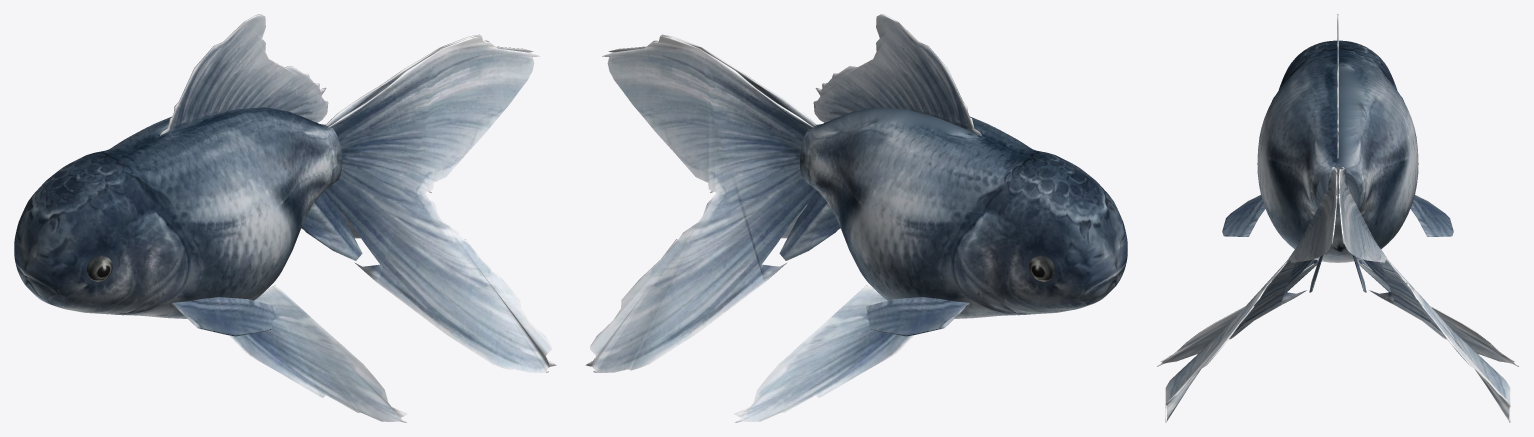
Rendered from seibungyo.glb.
3 views of the same model, side by side, from view 1: azimuth 30°, elevation 25°; view 2: azimuth 150°, elevation 25°; view 3: azimuth 270°, elevation 25° (orthographic). The views are drawn at different scales.
Parts seen in each view (by area): view 1: body, caudal_near, dorsal, pelvic_near, pectoral_near, gill_near, anal_near, caudal_far, eye_near; view 2: body, caudal_far, dorsal, pelvic_far, pectoral_far, gill_far, anal_far, caudal_near, eye_far; view 3: body, caudal_near, caudal_far, pelvic_near, pelvic_far, pectoral_near, pectoral_far.
Boxes of the visible parts, box(x1,y1,x2,y2) form: body: box(14, 107, 342, 318); caudal_near: box(325, 35, 556, 372); dorsal: box(160, 14, 328, 135); pelvic_near: box(227, 285, 407, 422); pectoral_near: box(172, 297, 275, 336); gill_near: box(111, 212, 189, 315); anal_near: box(301, 191, 362, 260); caudal_far: box(324, 34, 533, 238); eye_near: box(86, 255, 112, 281); body: box(799, 107, 1127, 318); caudal_far: box(585, 35, 816, 372); dorsal: box(813, 14, 981, 135); pelvic_far: box(734, 285, 914, 422); pectoral_far: box(866, 297, 969, 336); gill_far: box(952, 212, 1030, 315); anal_far: box(779, 191, 840, 260); caudal_near: box(608, 34, 817, 238); eye_far: box(1029, 255, 1055, 281); body: box(1257, 40, 1418, 262); caudal_near: box(1165, 167, 1337, 422); caudal_far: box(1338, 167, 1510, 422); pelvic_near: box(1157, 259, 1318, 366); pelvic_far: box(1357, 259, 1518, 366); pectoral_near: box(1222, 195, 1265, 236); pectoral_far: box(1410, 195, 1453, 236).
Bounding box in the file's own units: 0.15 × 0.0985 × 0.0989.
Materials: 1 (1 with a texture image).
